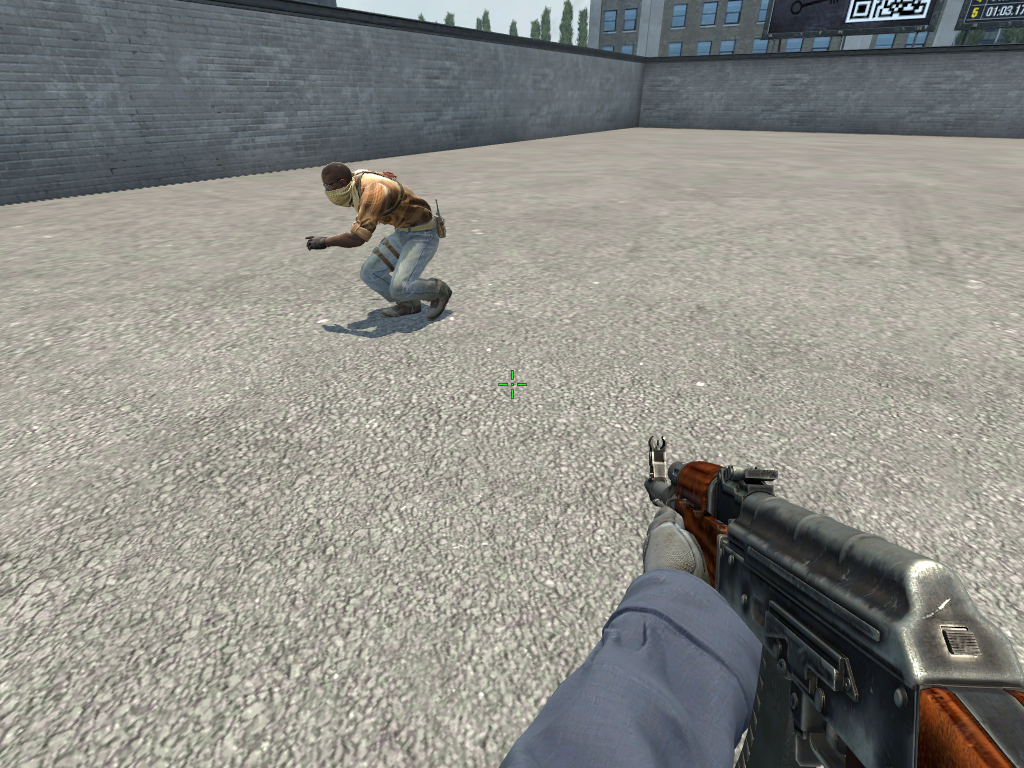tr head: (317, 157, 363, 211)
